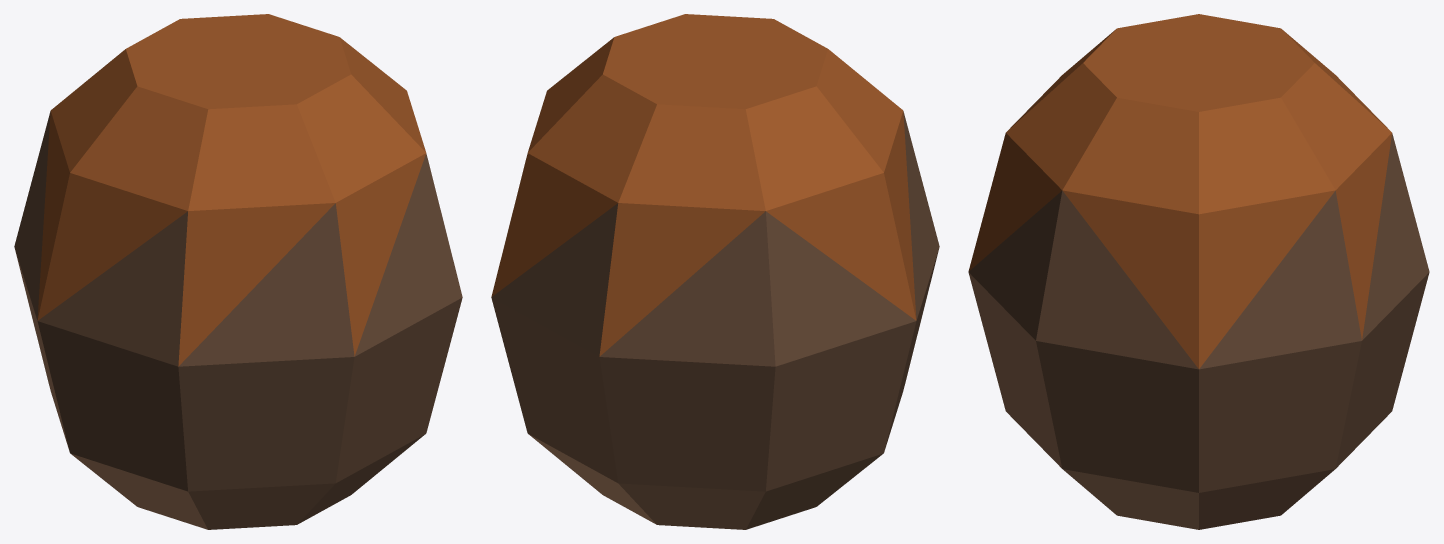
The model's file is coconut.glb.
3 renders of one model, left to right at view 1: azimuth 30°, elevation 25°; view 2: azimuth 150°, elevation 25°; view 3: azimuth 270°, elevation 25°, orthographic.
Size of the model in its own units: 1 by 1 by 1.
